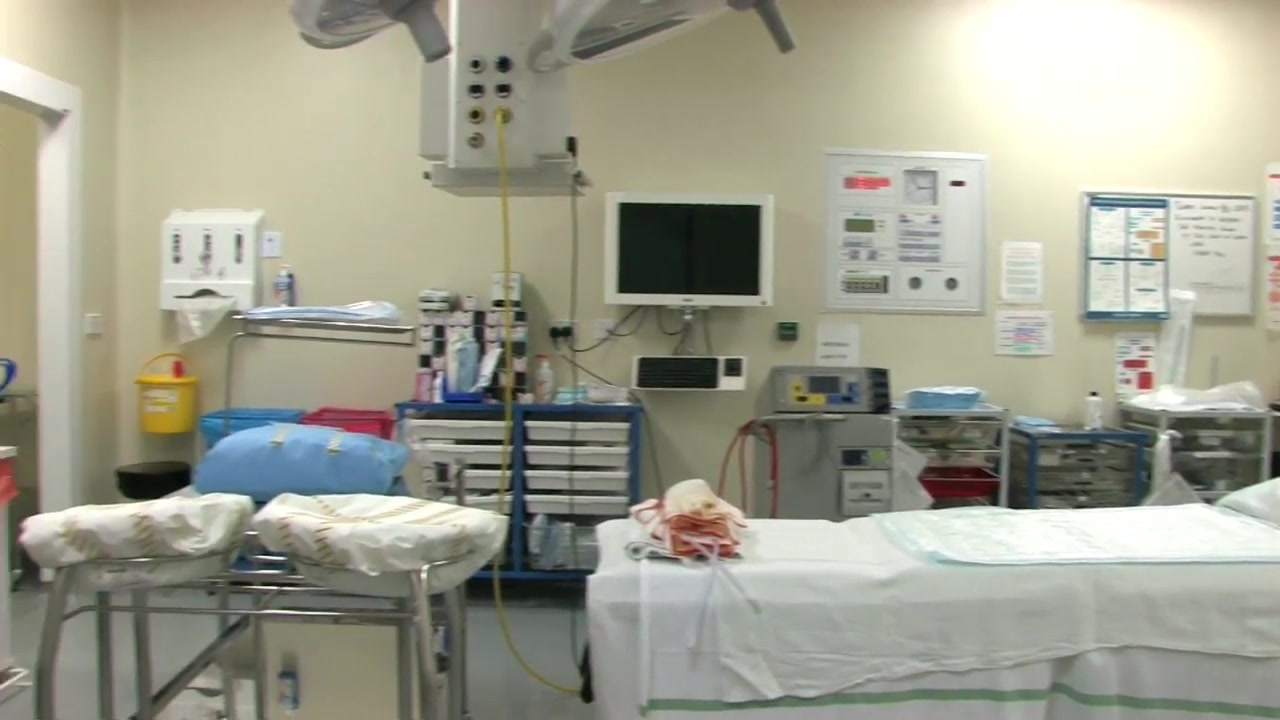computer: (602, 190, 775, 309)
dispenser: (159, 205, 261, 313)
keyboard: (636, 358, 720, 390)
operating_bed: (578, 477, 1280, 720)
surgical_light: (528, 1, 797, 76), (289, 1, 454, 64)
utility_cart: (399, 391, 641, 585), (1112, 393, 1280, 509), (881, 399, 1011, 512), (1008, 421, 1148, 507)
